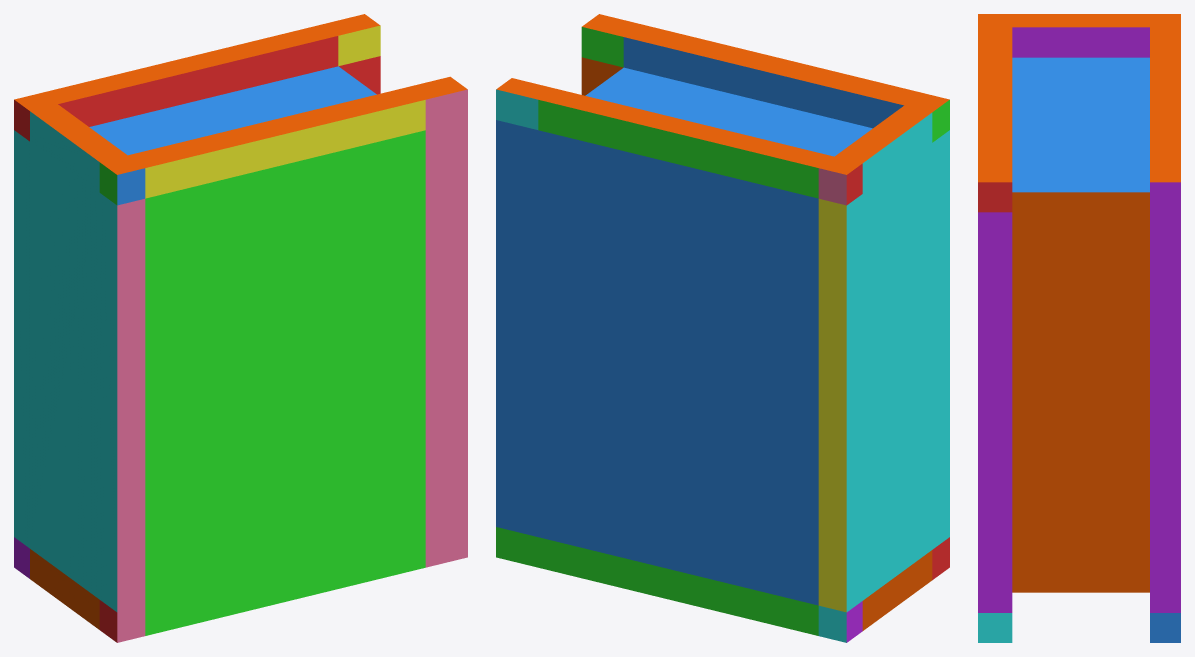
The model's file is grimoire.obj.
The picture shows the model from 3 angles, left to right: view 1: azimuth 30°, elevation 25°; view 2: azimuth 150°, elevation 25°; view 3: azimuth 270°, elevation 25°; orthographic projection.
Parts seen in each view (by area): view 1: model; view 2: model; view 3: model.
Boxes of the visible parts, x1,y1,x2,y2 form: model: (14, 14, 467, 642); model: (496, 14, 949, 642); model: (978, 14, 1180, 642).
Bounding box in the file's own units: 0.4491 × 0.5726 × 0.2286.
